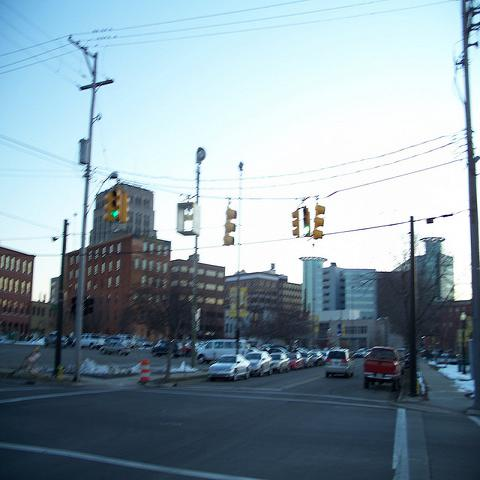car: (208, 353, 252, 382), (324, 348, 356, 378), (246, 350, 274, 376), (99, 340, 131, 356), (150, 340, 182, 356), (269, 353, 291, 374), (289, 352, 305, 371), (314, 351, 330, 367), (300, 351, 314, 368), (246, 347, 256, 353), (353, 353, 363, 358)
truck: (364, 345, 403, 392), (194, 338, 250, 365), (81, 334, 104, 350)
